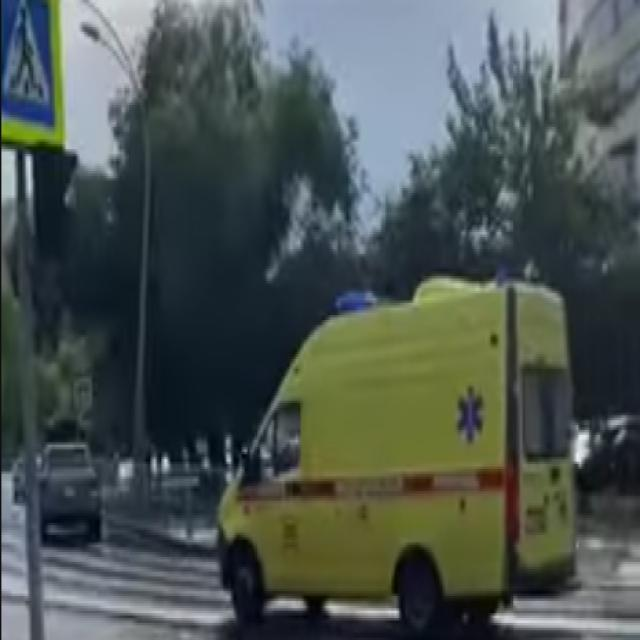intensive care unit: (218, 277, 577, 626)
non emergency car: (39, 438, 103, 546)
